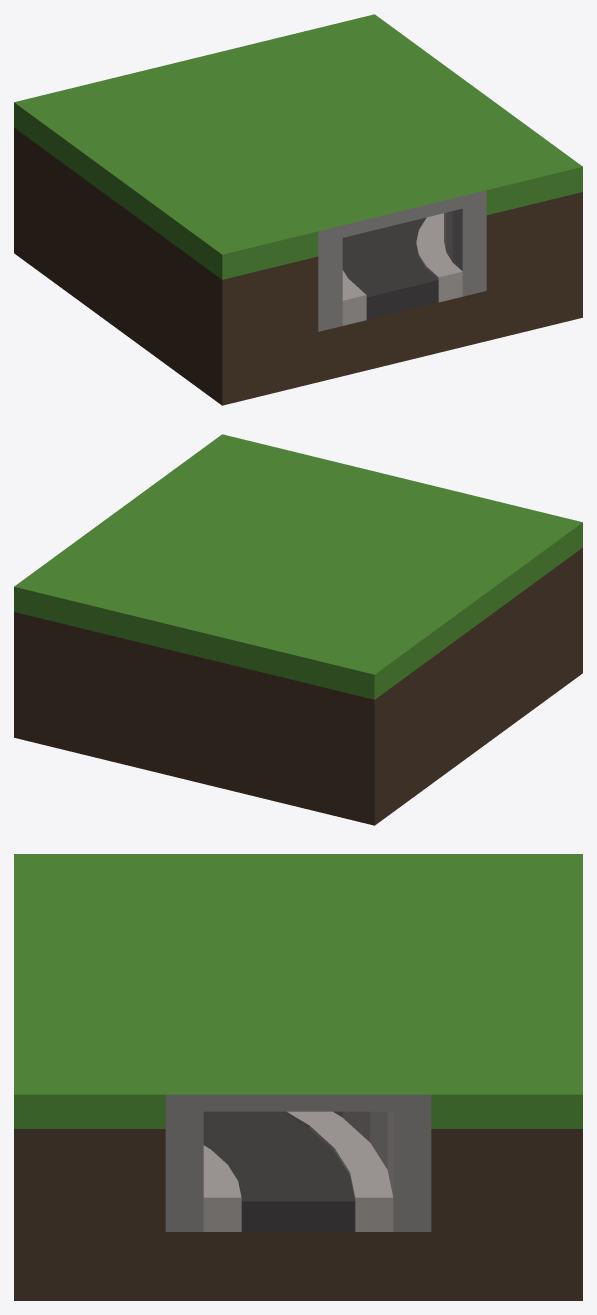
File: tile-road-tunnel-curve.glb
3 views of the same model, one above another, from view 1: azimuth 30°, elevation 25°; view 2: azimuth 150°, elevation 25°; view 3: azimuth 270°, elevation 25° (orthographic). The views are drawn at different scales.
Parts seen in each view (by area): view 1: tile-road-tunnel-curve; view 2: tile-road-tunnel-curve; view 3: tile-road-tunnel-curve.
Part boxes in pixels (left/top/right/bottom): tile-road-tunnel-curve: left=14, top=14, right=582, bottom=405; tile-road-tunnel-curve: left=14, top=434, right=582, bottom=825; tile-road-tunnel-curve: left=14, top=854, right=582, bottom=1300.
Size of the model in its own units: 30 by 12 by 30.
1 material, 1 textured.
